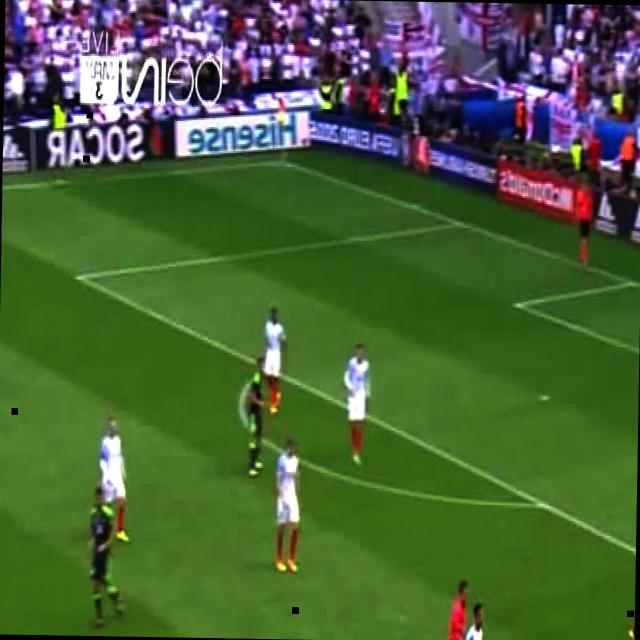player-white: (88, 487, 126, 629), (97, 418, 133, 540), (273, 436, 303, 576), (342, 342, 372, 468), (262, 302, 287, 414), (246, 356, 266, 479), (440, 576, 472, 640), (574, 180, 594, 274), (624, 509, 636, 640), (450, 604, 489, 640)
